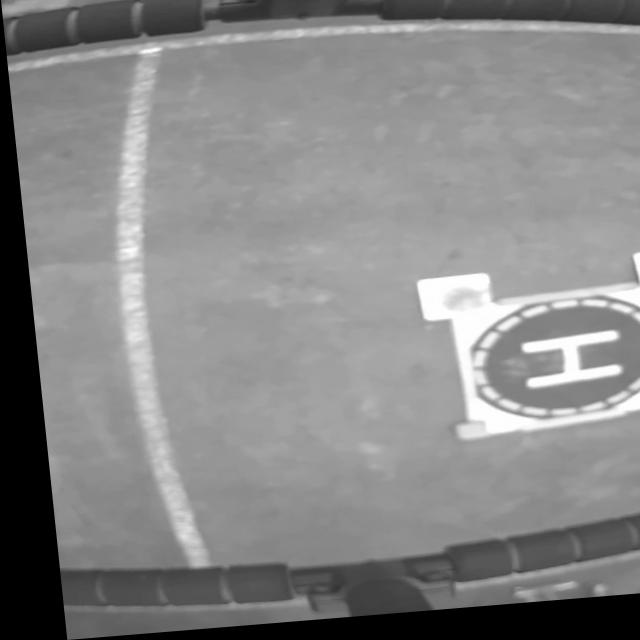Helipad: (511, 339, 616, 399)
